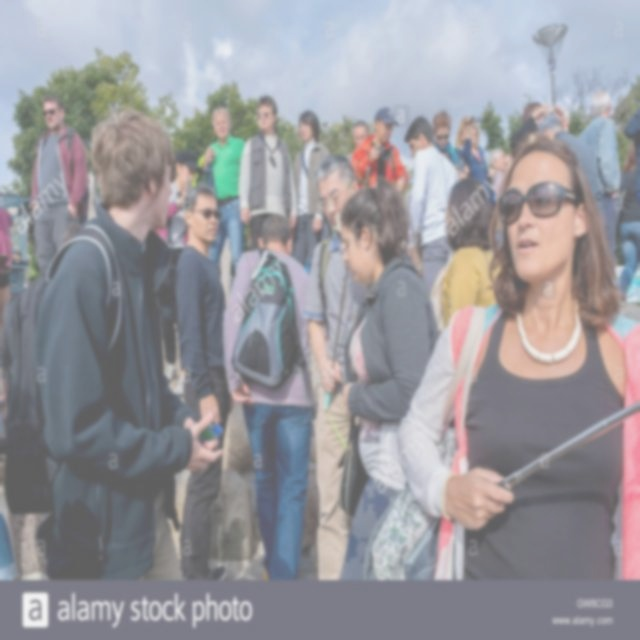pessoa: (392, 127, 639, 582), (20, 102, 226, 582), (338, 176, 441, 582), (301, 151, 385, 582), (221, 209, 316, 583), (162, 174, 237, 609), (152, 148, 205, 398), (429, 176, 504, 334), (30, 94, 91, 282), (404, 112, 462, 288), (574, 87, 624, 283), (236, 94, 298, 250), (536, 113, 608, 236), (199, 105, 247, 275), (291, 110, 333, 272), (350, 106, 410, 194), (614, 142, 640, 308), (454, 113, 496, 206), (509, 100, 568, 158), (431, 109, 466, 167), (344, 120, 370, 164), (0, 206, 12, 299), (487, 148, 505, 197), (627, 105, 640, 168), (504, 152, 516, 170)
